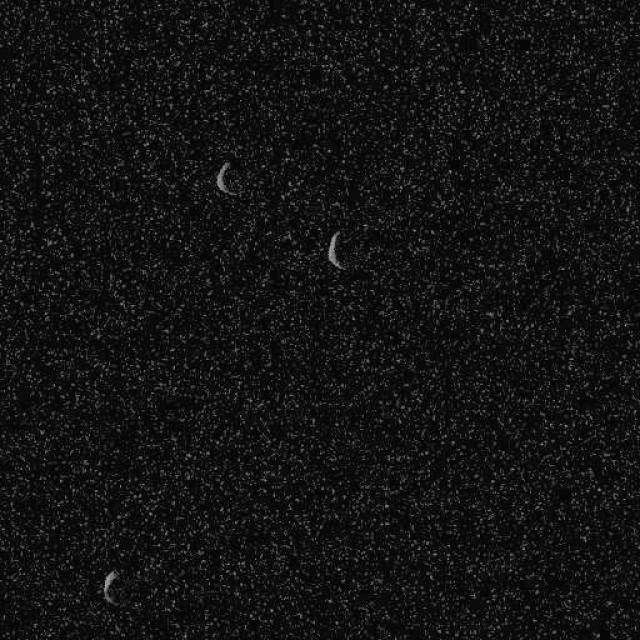D2: (214, 159, 242, 196), (325, 229, 346, 270), (101, 569, 120, 605)
